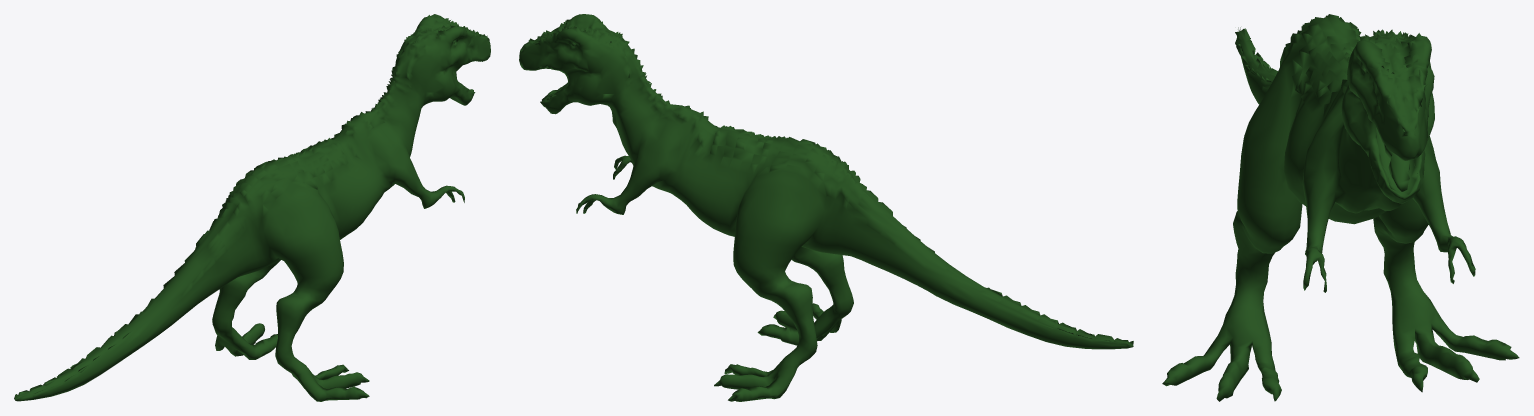
File: Dinosaur_V02_Low.FBX
The picture shows the model from 3 angles, left to right: view 1: azimuth 30°, elevation 25°; view 2: azimuth 150°, elevation 25°; view 3: azimuth 270°, elevation 25°; orthographic projection. The views are drawn at different scales.
Visible parts, largest first — view 1: Body_Dinosaur_Low; view 2: Body_Dinosaur_Low; view 3: Body_Dinosaur_Low.
Boxes of the visible parts, left/top/right/bottom form: Body_Dinosaur_Low: left=14, top=14, right=490, bottom=401; Body_Dinosaur_Low: left=519, top=14, right=1133, bottom=401; Body_Dinosaur_Low: left=1162, top=14, right=1519, bottom=401.
Bounding box in the file's own units: 221 × 81.3 × 119.
